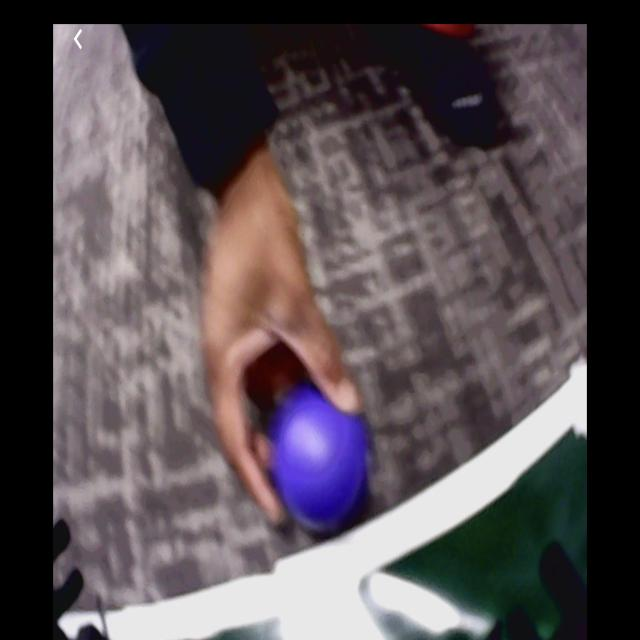ball: (275, 386, 369, 522)
